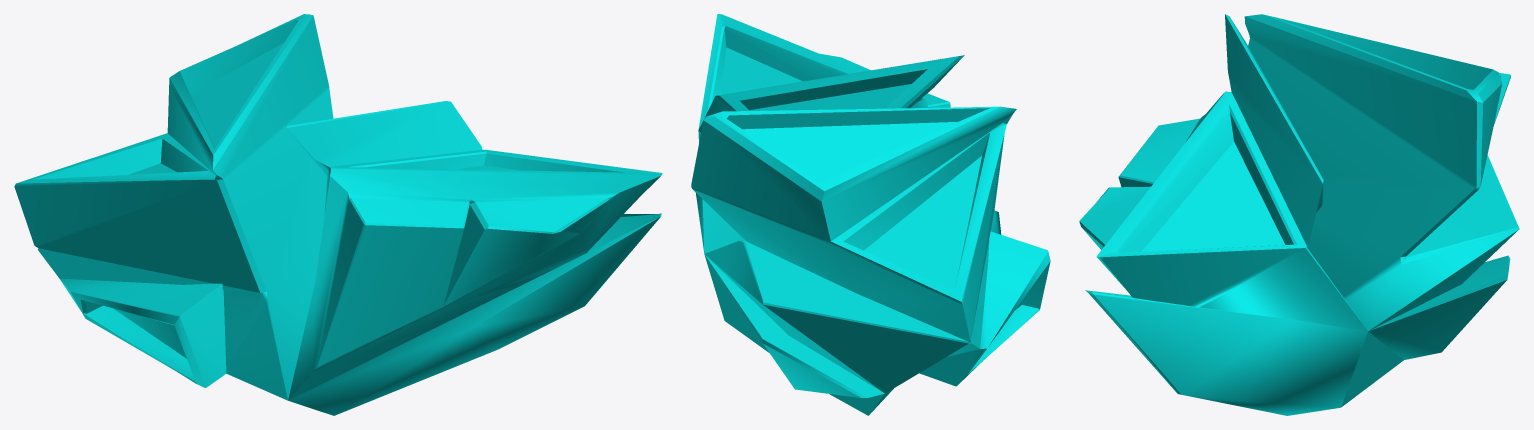
The model's file is tricystal4_small_alpha.fbx.
3 views of the same model, side by side, from view 1: azimuth 30°, elevation 25°; view 2: azimuth 150°, elevation 25°; view 3: azimuth 270°, elevation 25° (orthographic). The views are drawn at different scales.
Visible parts, largest first — view 1: pCube1; view 2: pCube1; view 3: pCube1.
Boxes of the visible parts, bbox=[...] form: pCube1: bbox=[14, 14, 662, 415]; pCube1: bbox=[691, 14, 1050, 415]; pCube1: bbox=[1079, 14, 1519, 415].
Size of the model in its own units: 11.43 by 7.38 by 9.24.
